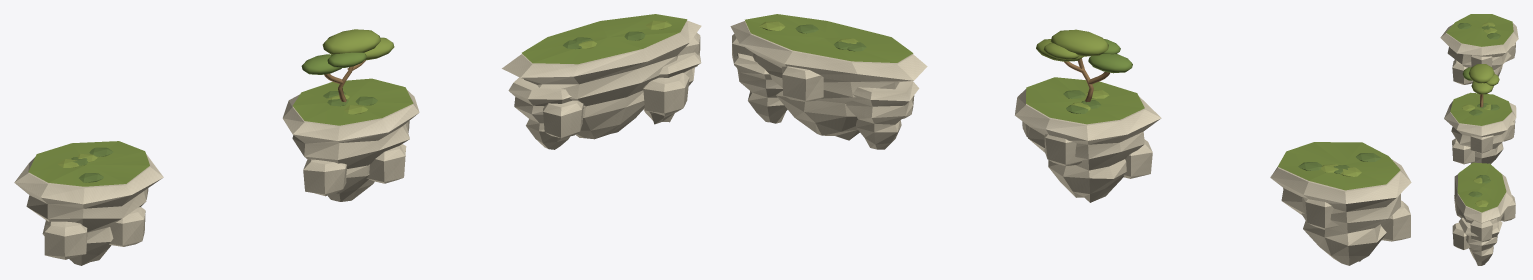
The model's file is distant-island-kit.glb.
3 renders of one model, left to right at view 1: azimuth 30°, elevation 25°; view 2: azimuth 150°, elevation 25°; view 3: azimuth 270°, elevation 25°, orthographic. The views are drawn at different scales.
Visible parts, largest first — view 1: floating-limestone (×3), distant-island-green (×3); view 2: floating-limestone (×3), distant-island-green (×3), distant-tree-bark; view 3: floating-limestone (×3), distant-island-green (×3).
Part boxes in pixels (box(x1,y1,x2,y2)): floating-limestone (×3): box(14, 20, 701, 265); distant-island-green (×3): box(28, 14, 687, 186); floating-limestone (×3): box(730, 21, 1411, 265); distant-island-green (×3): box(745, 14, 1400, 190); distant-tree-bark: box(1064, 58, 1109, 102); floating-limestone (×3): box(1440, 23, 1518, 265); distant-island-green (×3): box(1446, 14, 1513, 212).
Bounding box in the file's own units: 10.42 × 2.4 × 1.67.
Materials: 3 (1 with a texture image).
